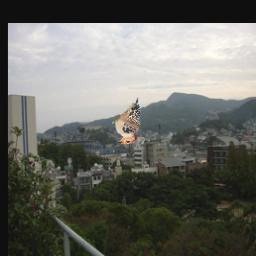Woodpecker: (111, 98, 140, 146)
